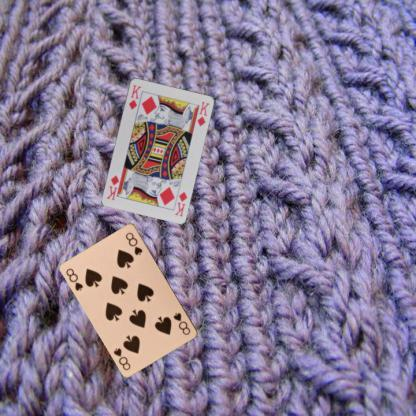8s: (63, 266, 85, 292), (171, 310, 192, 336)
Kd: (126, 82, 142, 111), (172, 189, 188, 217)
